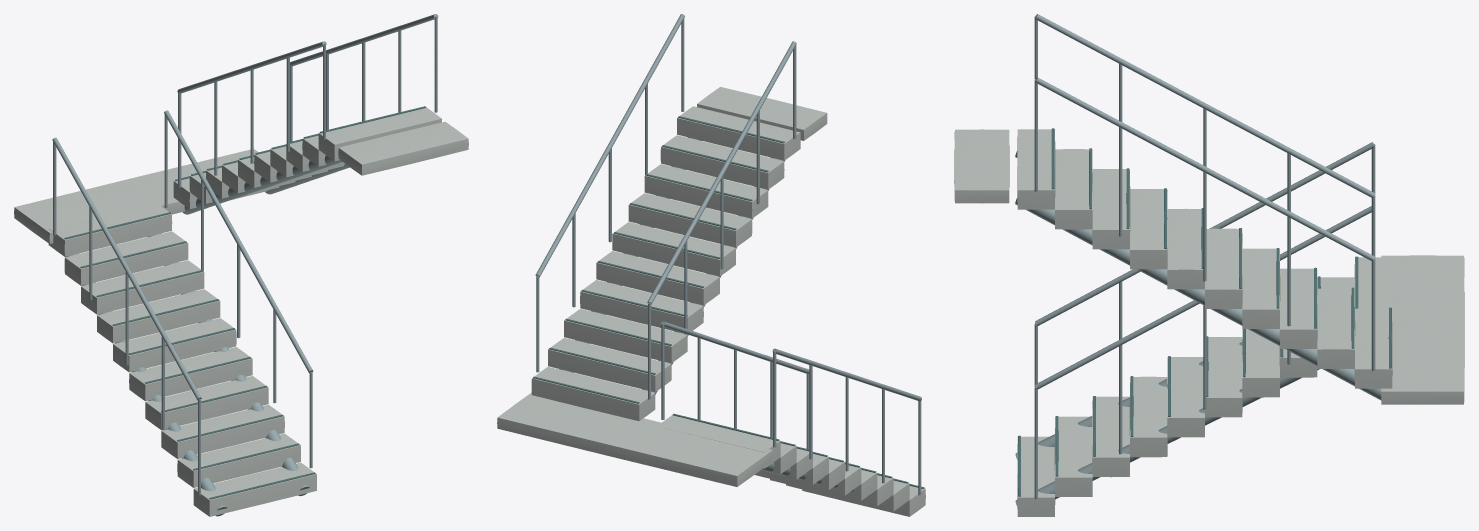
The model's file is stairs.glb.
3 views of the same model, side by side, from view 1: azimuth 30°, elevation 25°; view 2: azimuth 150°, elevation 25°; view 3: azimuth 270°, elevation 25° (orthographic). The views are drawn at different scales.
Visible parts, largest first — view 1: stairs; view 2: stairs; view 3: stairs.
Part boxes in pixels (x1,y1,x2,y2): stairs: (14, 14, 468, 516); stairs: (497, 14, 925, 516); stairs: (954, 14, 1464, 516).
Size of the model in its own units: 2.5 by 4.41 by 3.95.
Materials: 70 (70 with a texture image).
